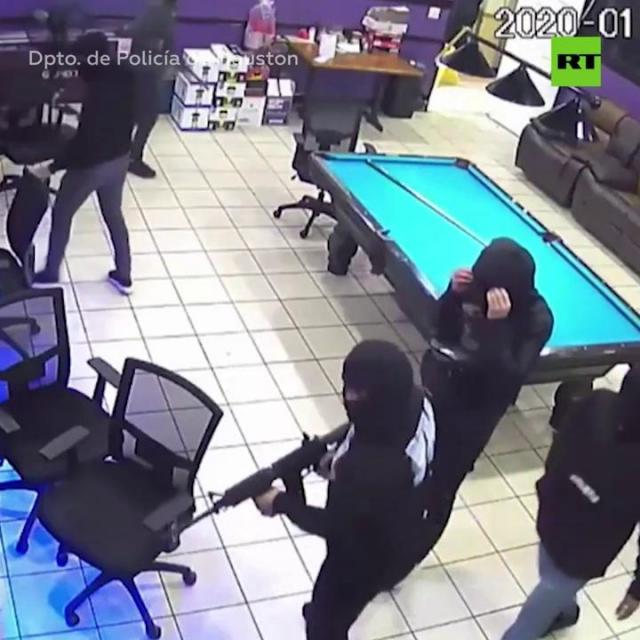weapon: (158, 408, 352, 554)
